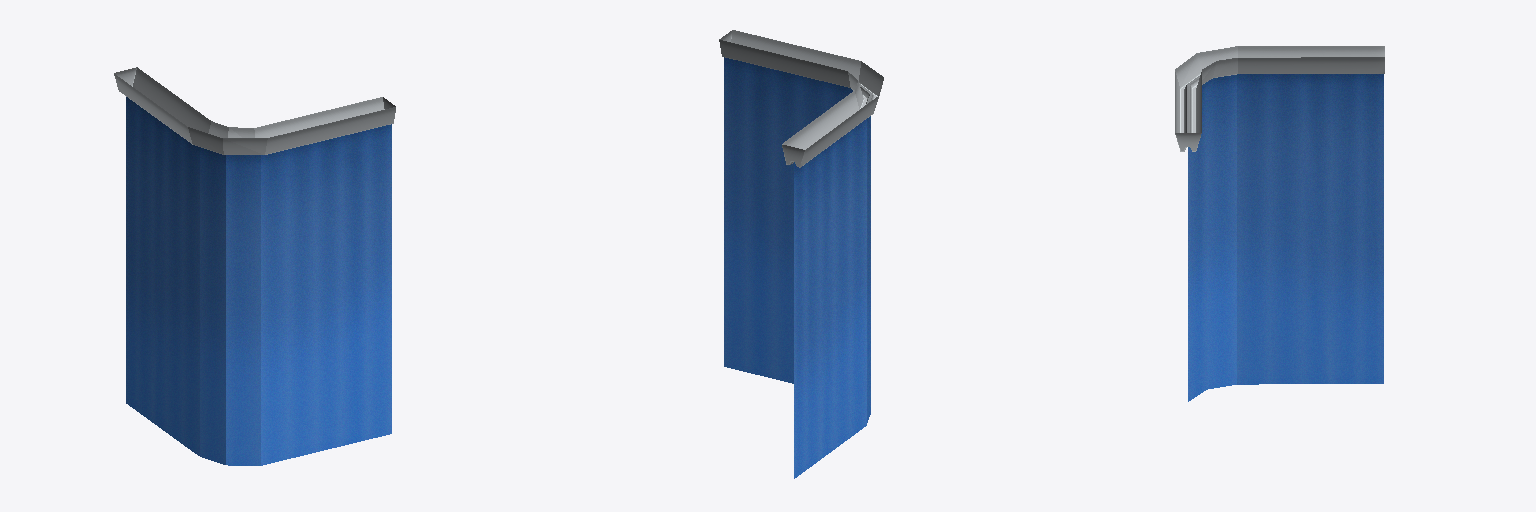
The picture shows the model from 3 angles: view 1: azimuth 30°, elevation 25°; view 2: azimuth 150°, elevation 25°; view 3: azimuth 270°, elevation 25°; orthographic projection.
Parts seen in each view (by area): view 1: Curtain_cloth, Curtain_runner; view 2: Curtain_cloth, Curtain_runner; view 3: Curtain_cloth, Curtain_runner.
Boxes of the visible parts, x1=… form: Curtain_cloth: x1=126, y1=97, x2=391, y2=465; Curtain_runner: x1=114, y1=67, x2=395, y2=154; Curtain_cloth: x1=724, y1=57, x2=870, y2=478; Curtain_runner: x1=719, y1=30, x2=883, y2=167; Curtain_cloth: x1=1188, y1=74, x2=1383, y2=401; Curtain_runner: x1=1175, y1=46, x2=1384, y2=151.
Size of the model in its own units: 1.15 by 2.04 by 1.17.
1 materials, 1 textured.